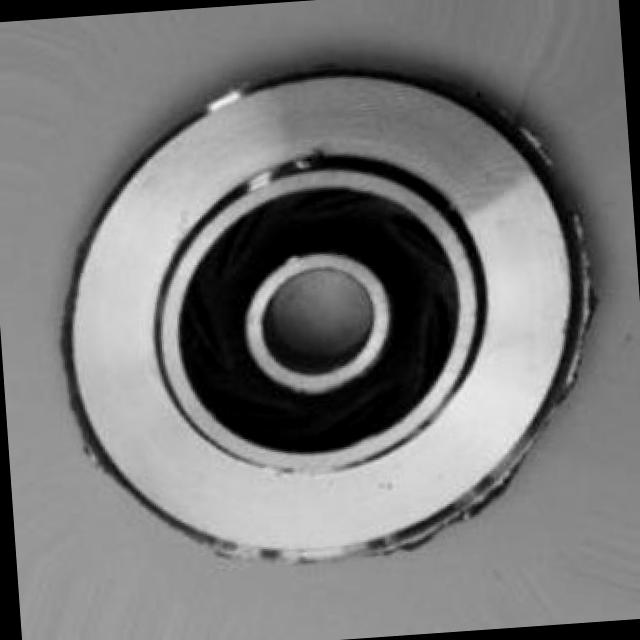Defect: (560, 213, 601, 310)
